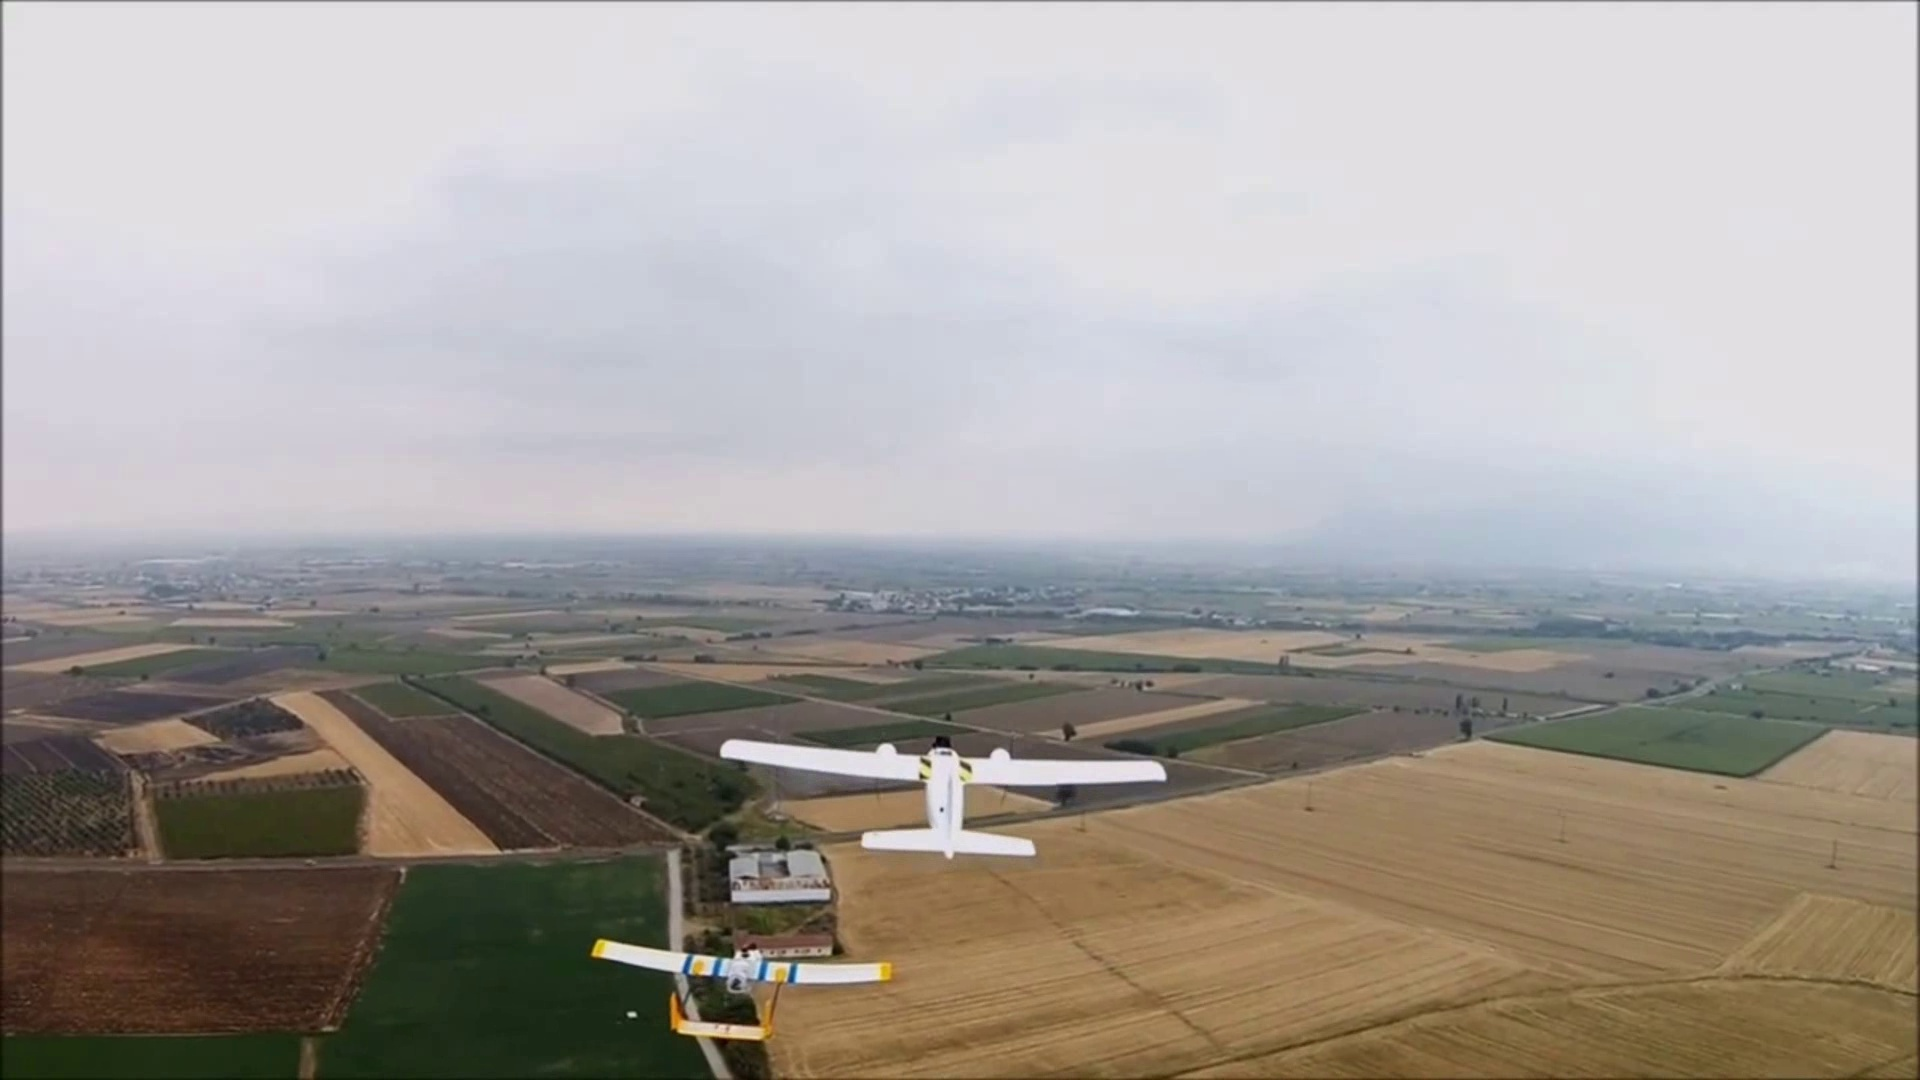airplane: (721, 723, 1171, 796)
